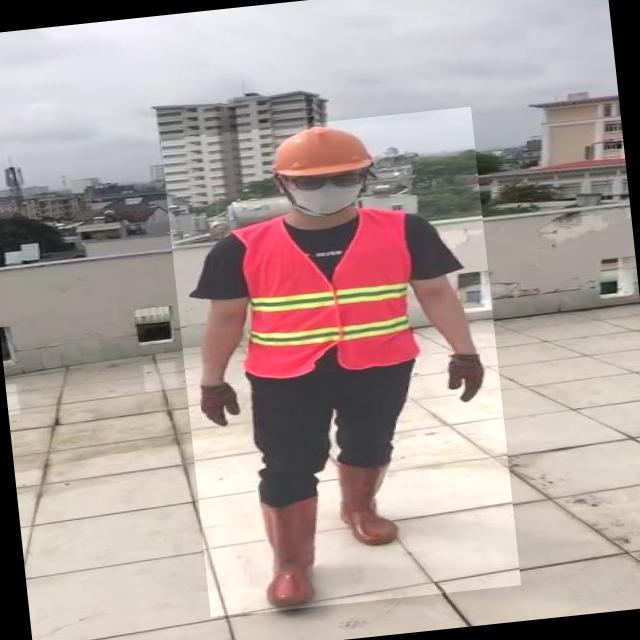Gloves: (195, 383, 244, 430), (446, 354, 490, 405)
Helmet: (259, 119, 377, 184)
Human: (160, 107, 521, 619)
Safety Boot: (256, 496, 329, 611), (333, 459, 406, 550)
Safety Vest: (232, 209, 418, 384)
